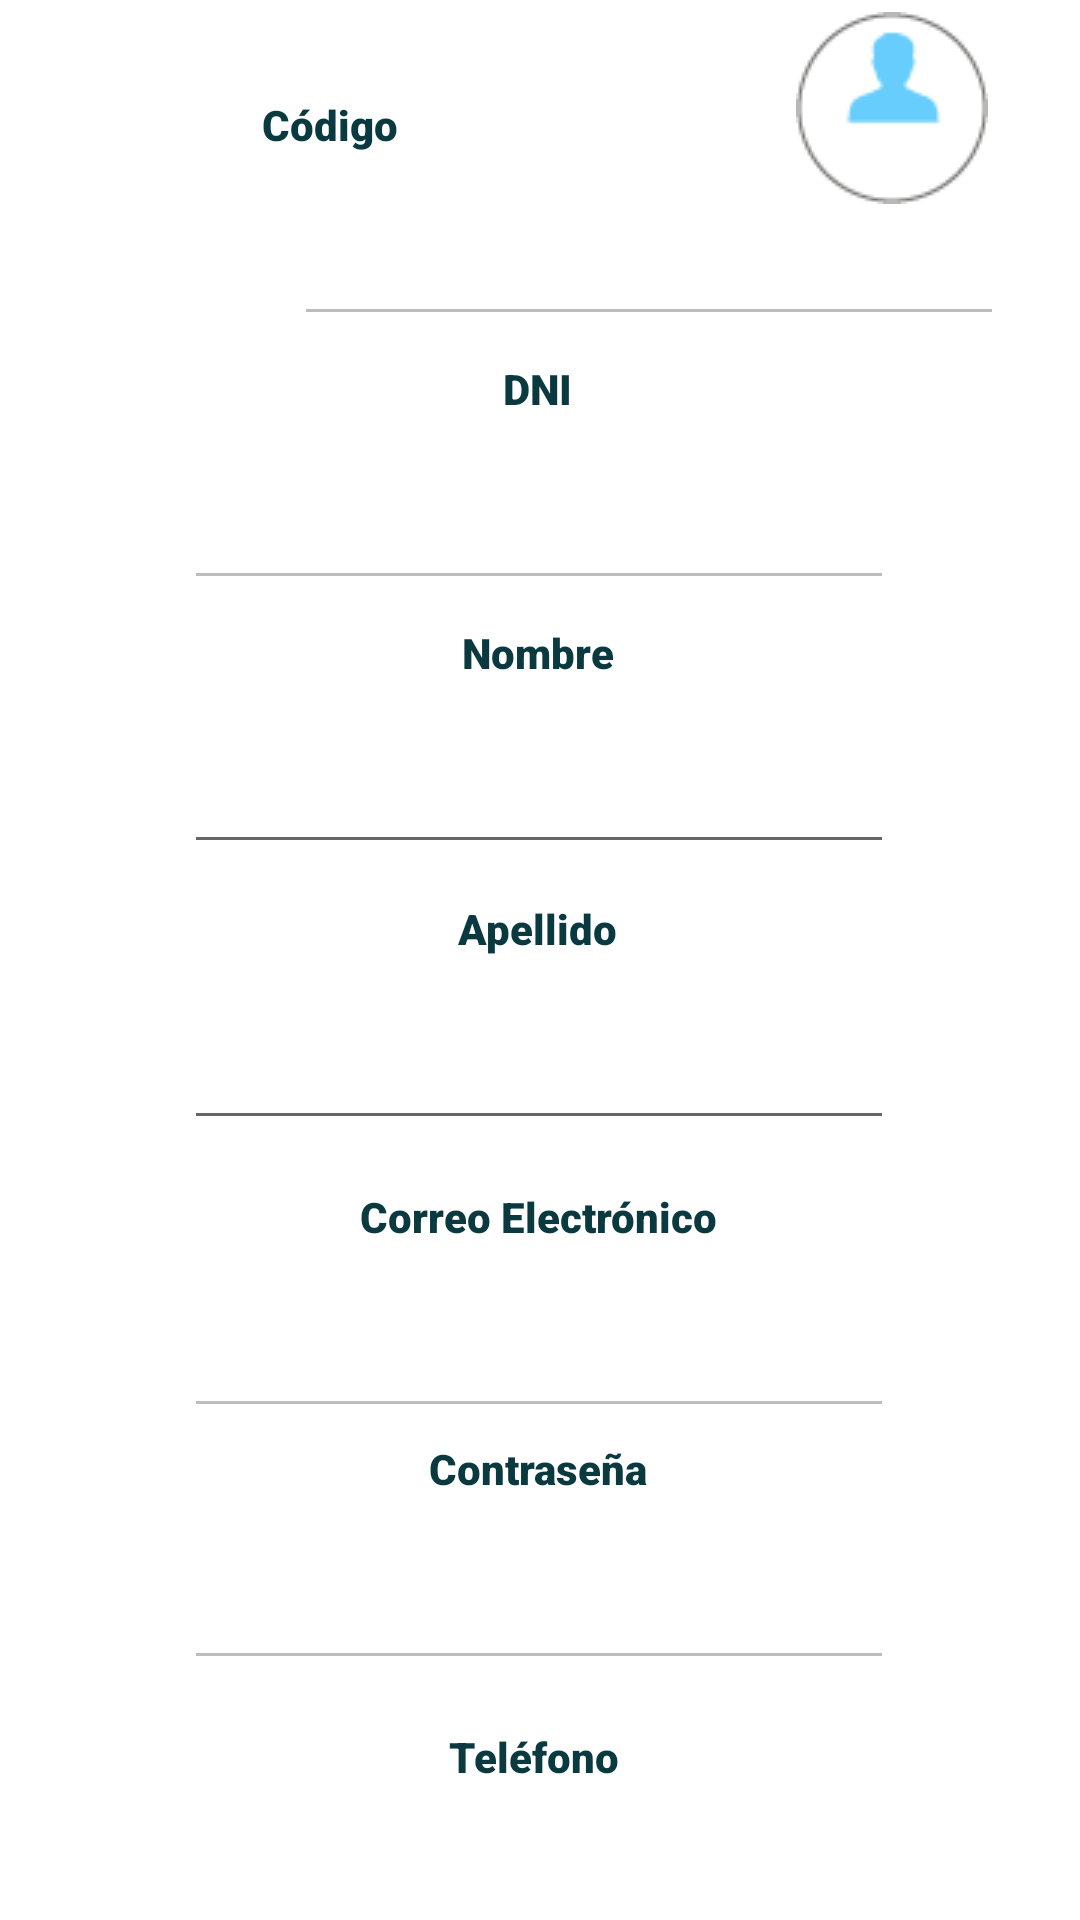

Named icons in this screenshot (1080×1920) and their bounding boxes, (x1, y1, x2, y2):
perfil: (796, 12, 988, 204)
